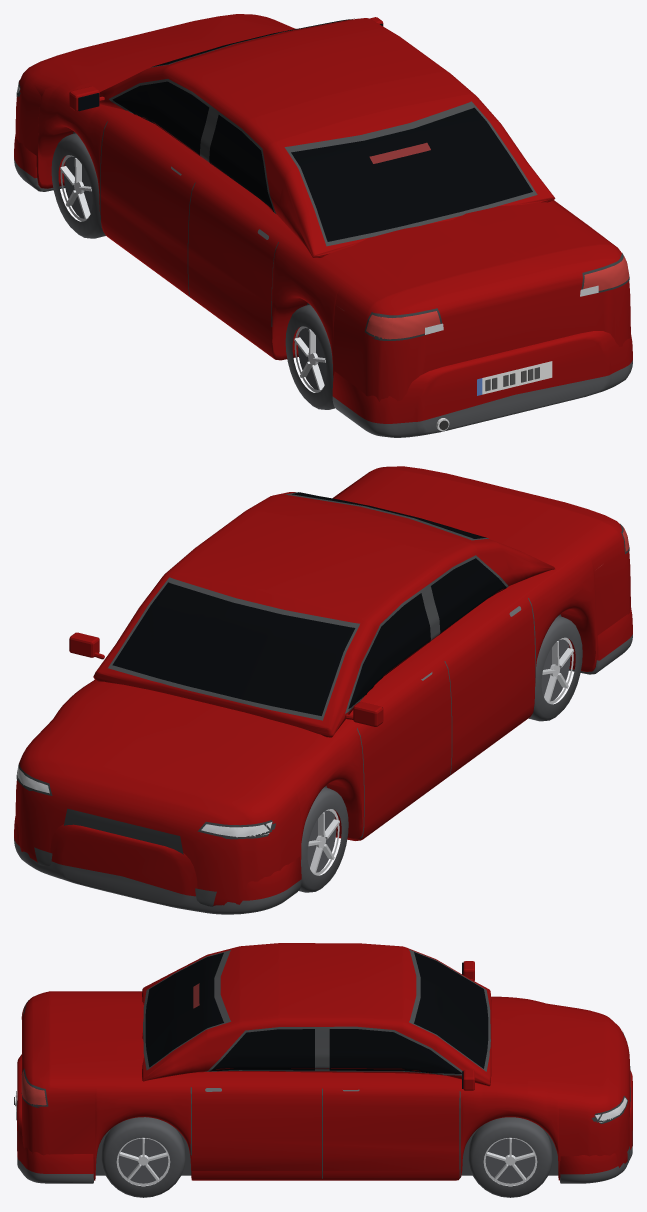
The model's file is traffic_sedan_geo.glb.
3 renders of one model, top to bottom at view 1: azimuth 30°, elevation 25°; view 2: azimuth 150°, elevation 25°; view 3: azimuth 270°, elevation 25°, orthographic. The views are drawn at different scales.
Parts seen in each view (by area): view 1: body, wheel_0l, wheel_1l; view 2: body, wheel_1l, wheel_0l; view 3: body, wheel_1r, wheel_0r.
Boxes of the visible parts, x1,y1,x2,y2 form: body: [14, 14, 632, 437]; wheel_0l: [51, 133, 105, 238]; wheel_1l: [285, 304, 335, 409]; body: [14, 466, 632, 914]; wheel_1l: [528, 616, 582, 721]; wheel_0l: [299, 787, 348, 892]; body: [14, 943, 632, 1183]; wheel_1r: [101, 1117, 185, 1197]; wheel_0r: [468, 1117, 552, 1197].
Bounding box in the file's own units: 2.13 × 1.48 × 4.72.
